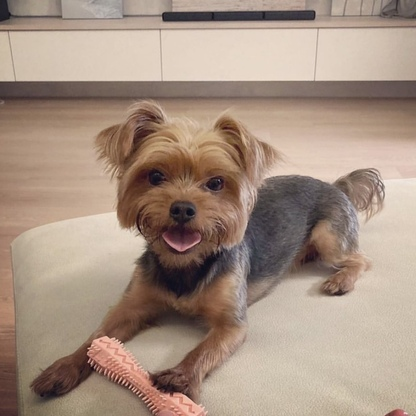yorkshire: (30, 98, 385, 400)
